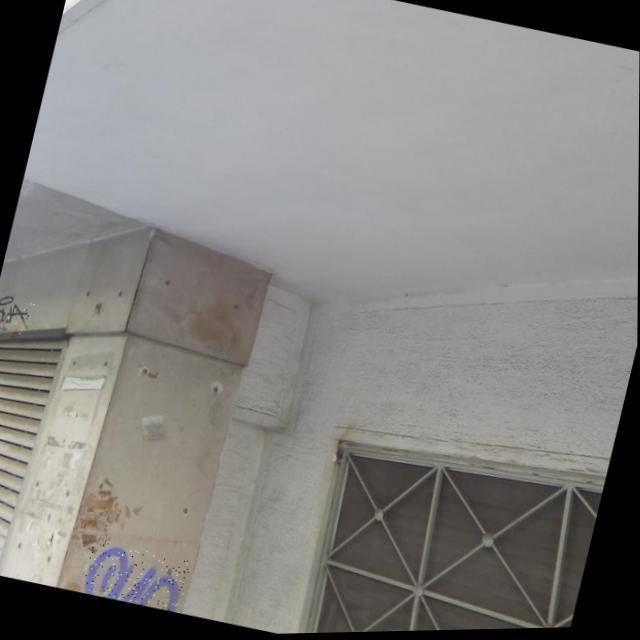-: (82, 538, 192, 615), (0, 290, 36, 339)
